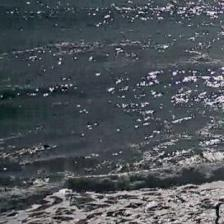surfer: (43, 144, 51, 148)
